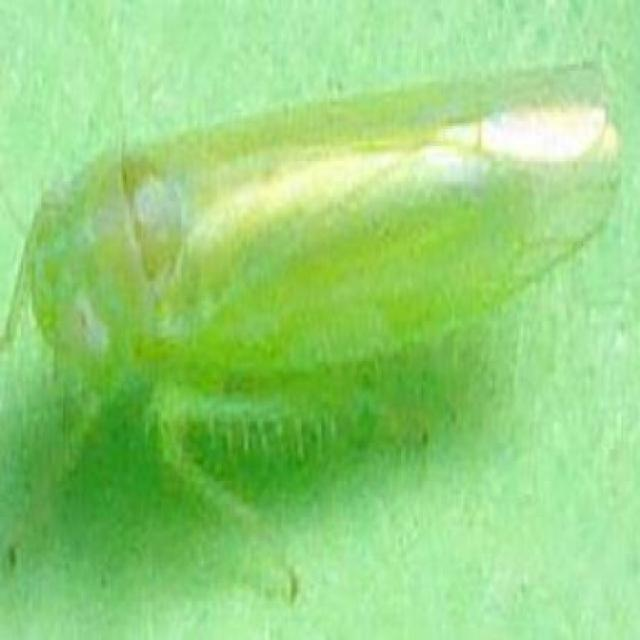green-leafhopper: (34, 82, 611, 390)
